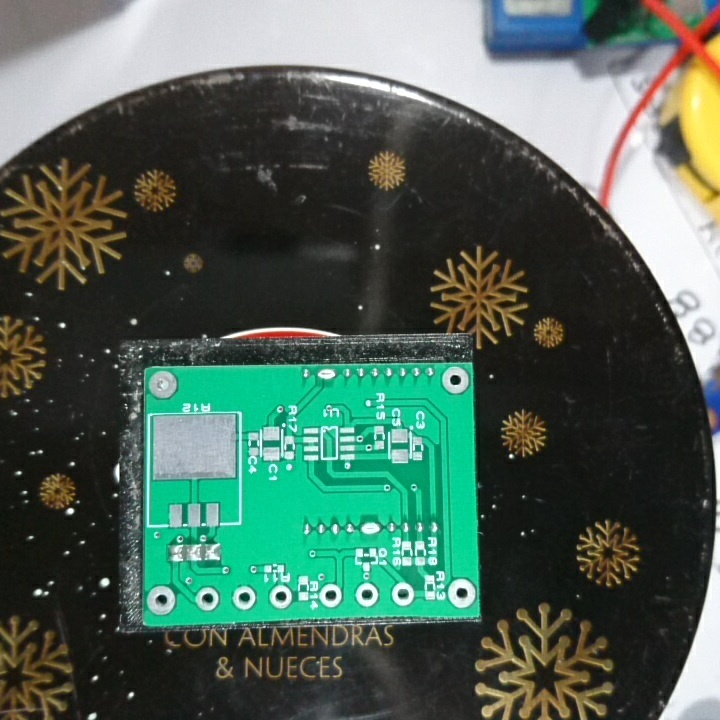F: (144, 582, 177, 618), (439, 363, 472, 397), (147, 368, 180, 401), (446, 578, 478, 609), (194, 585, 222, 614), (230, 584, 259, 612), (318, 583, 346, 610), (389, 581, 416, 609), (267, 584, 293, 611), (353, 583, 381, 607)
P: (358, 518, 384, 538), (315, 366, 338, 385)
